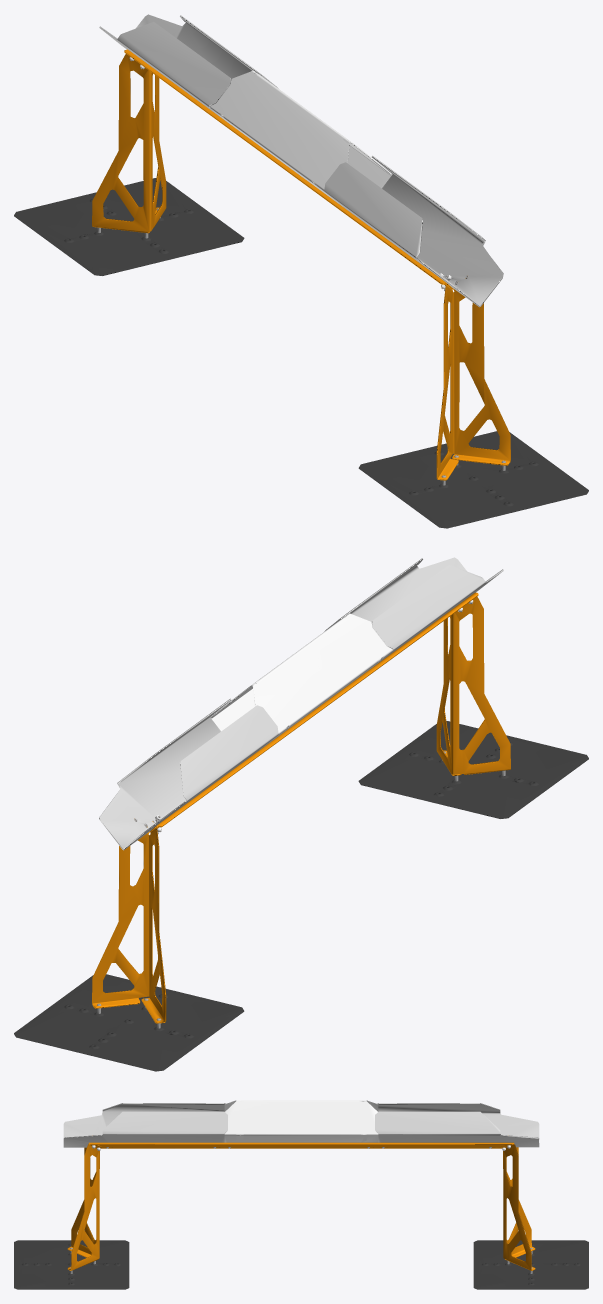
Rendered from goal.glb.
The picture shows the model from 3 angles, top to bottom: view 1: azimuth 30°, elevation 25°; view 2: azimuth 150°, elevation 25°; view 3: azimuth 270°, elevation 25°; orthographic projection. The views are drawn at different scales.
Parts seen in each view (by area): view 1: goal; view 2: goal; view 3: goal.
Boxes of the visible parts, x1,y1,x2,y2 form: goal: (14,14,588,528); goal: (14,557,588,1071); goal: (14,1100,588,1289).
Bounding box in the file's own units: 1.15 × 1.81 × 5.72.
